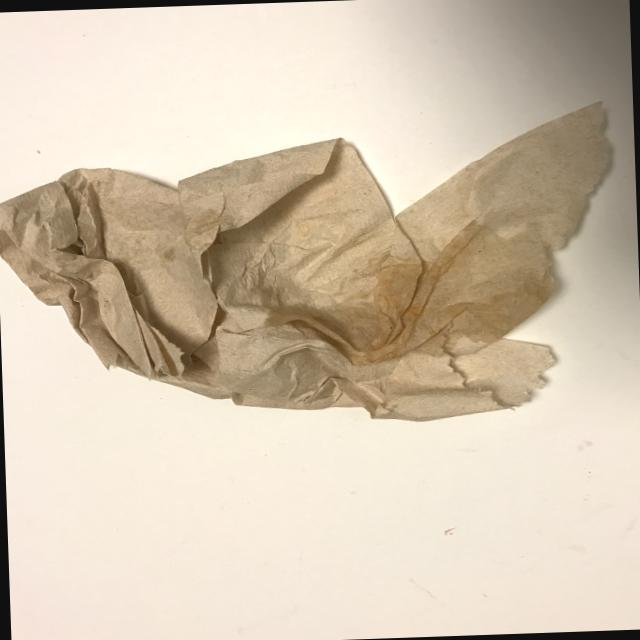Paper: (0, 41, 638, 447)
